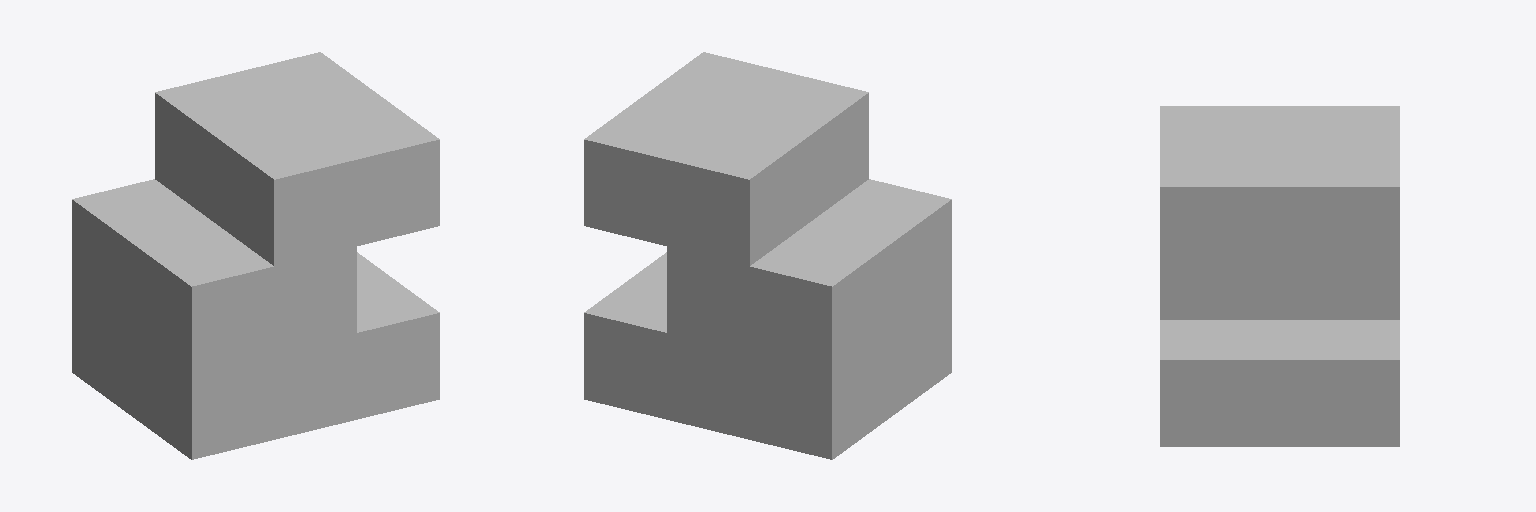
File: sample_plan.obj
3 renders of one model, left to right at view 1: azimuth 30°, elevation 25°; view 2: azimuth 150°, elevation 25°; view 3: azimuth 270°, elevation 25°, orthographic.
Size of the model in its own units: 0.6 by 0.6 by 0.5.